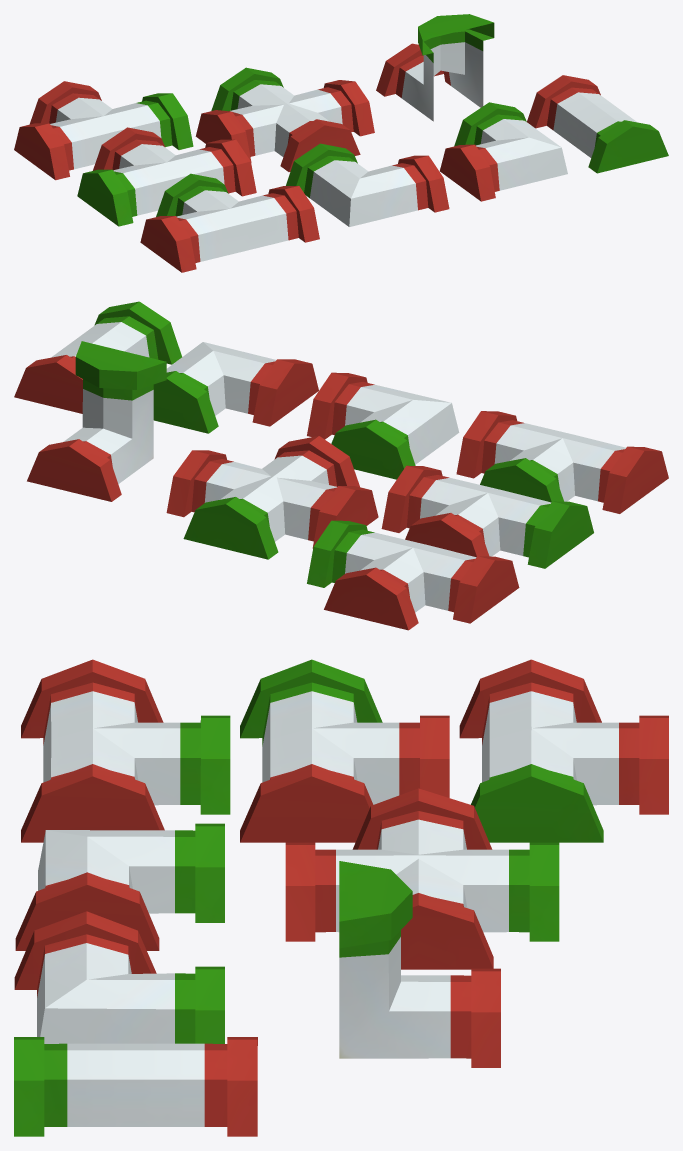
The model's file is Asset_Cable_Conexiones.fbx.
The picture shows the model from 3 angles, top to bottom: view 1: azimuth 30°, elevation 25°; view 2: azimuth 150°, elevation 25°; view 3: azimuth 270°, elevation 25°; orthographic projection. The views are drawn at different scales.
Visible parts, largest first — view 1: Asset_conexion_4, Asset_conexion_3_v3, Asset_conexion_3_v2, Asset_conexion_3, Asset_conexion_L_v2, Asset_conexion_L, Asset_conexion_I, Asset_conexion_Pared_L; view 2: Asset_conexion_4, Asset_conexion_3, Asset_conexion_3_v2, Asset_conexion_3_v3, Asset_conexion_Pared_L, Asset_conexion_L_v2, Asset_conexion_L, Asset_conexion_I; view 3: Asset_conexion_4, Asset_conexion_3, Asset_conexion_3_v3, Asset_conexion_3_v2, Asset_conexion_I, Asset_conexion_Pared_L, Asset_conexion_L, Asset_conexion_L_v2.
Part boxes in pixels (x1,y1,x2,y2): Asset_conexion_4: (195,67,374,171); Asset_conexion_3_v3: (140,173,319,272); Asset_conexion_3_v2: (77,127,256,226); Asset_conexion_3: (14,81,193,180); Asset_conexion_L_v2: (286,143,449,226); Asset_conexion_L: (440,102,567,201); Asset_conexion_I: (527,75,668,173); Asset_conexion_Pared_L: (376,14,494,121); Asset_conexion_4: (166,436,378,559); Asset_conexion_3: (307,520,519,630); Asset_conexion_3_v2: (381,465,593,568); Asset_conexion_3_v3: (456,411,668,513); Asset_conexion_Pared_L: (27,341,166,501); Asset_conexion_L_v2: (307,372,459,479); Asset_conexion_L: (153,342,318,433); Asset_conexion_I: (14,301,181,413); Asset_conexion_4: (285,788,559,969); Asset_conexion_3: (459,659,668,842); Asset_conexion_3_v3: (21,659,230,842); Asset_conexion_3_v2: (240,659,449,842); Asset_conexion_I: (14,1037,257,1136); Asset_conexion_Pared_L: (339,861,500,1067); Asset_conexion_L: (14,911,224,1043); Asset_conexion_L_v2: (15,823,224,950).
Size of the model in its own units: 0.8869 by 0.1475 by 0.5978.
